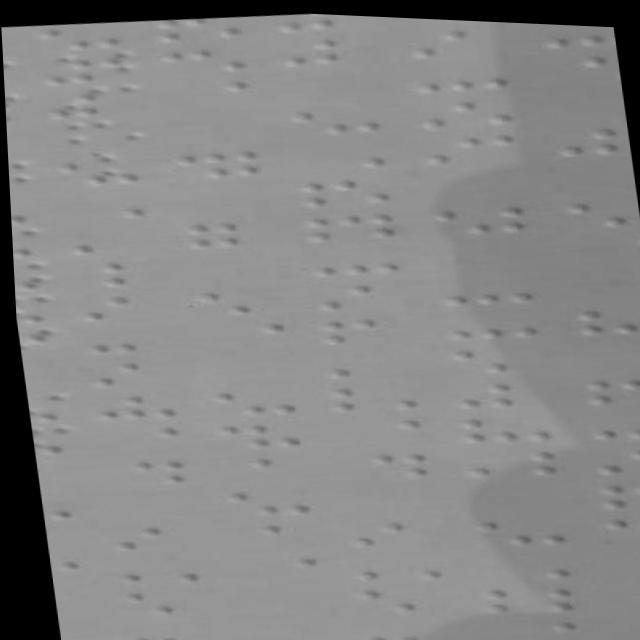braiile: (393, 14, 518, 62), (424, 265, 551, 310), (333, 504, 443, 552), (401, 54, 520, 98), (277, 97, 390, 142), (448, 437, 561, 482), (32, 84, 146, 128), (289, 168, 400, 213), (269, 27, 380, 72), (459, 506, 568, 551), (169, 212, 283, 255), (298, 272, 409, 316), (334, 542, 447, 585), (72, 352, 184, 395), (409, 91, 521, 134), (442, 405, 553, 448), (292, 204, 406, 245), (296, 238, 406, 280), (345, 576, 454, 618), (467, 574, 581, 614), (77, 385, 183, 428), (28, 18, 134, 61), (308, 307, 413, 350), (43, 151, 147, 194), (202, 413, 311, 454), (183, 279, 289, 321), (437, 335, 545, 376), (96, 516, 198, 559), (52, 222, 161, 262), (73, 285, 176, 327), (314, 375, 418, 416), (204, 379, 304, 421), (102, 549, 204, 590), (211, 481, 313, 522), (445, 370, 546, 411), (438, 303, 541, 343), (147, 10, 252, 48), (310, 343, 413, 381), (73, 321, 174, 359), (107, 584, 208, 621), (546, 117, 630, 159), (556, 190, 639, 228), (346, 610, 451, 640), (570, 365, 640, 407), (528, 18, 616, 50), (576, 404, 640, 441), (112, 615, 205, 640), (580, 437, 640, 474), (590, 472, 640, 509)
